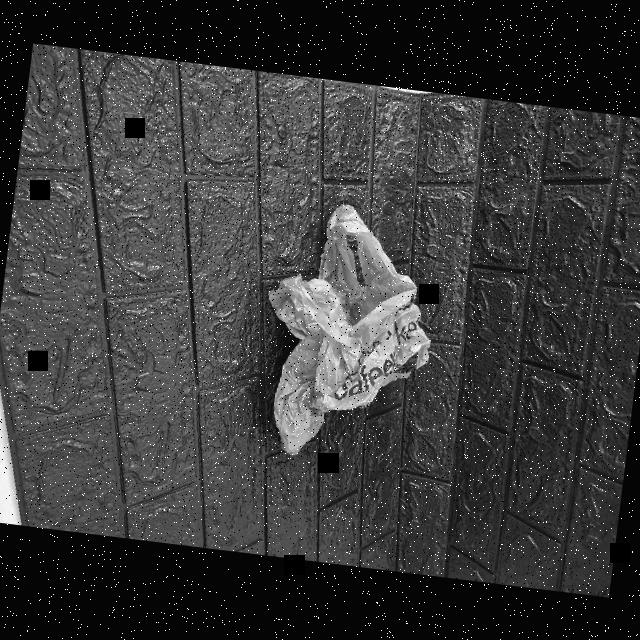plastic_bag: (246, 197, 448, 470)
